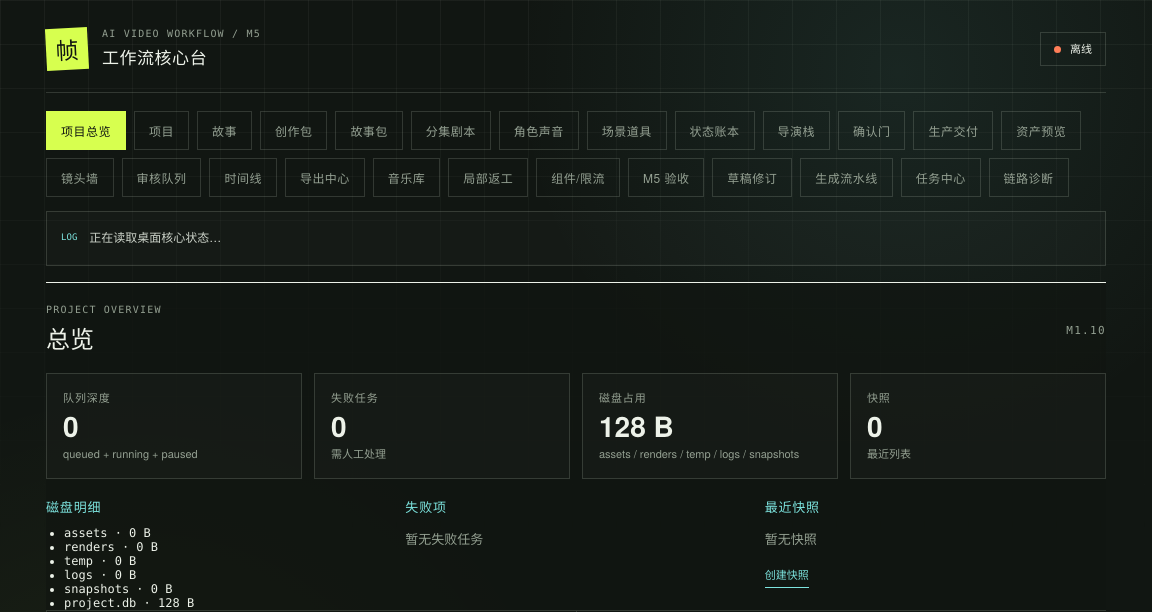
Test case: M1 shell › builds visual bible and director preset three-level resolve
Click the button "导演栈" at (796,130), box [762,111,830,150]
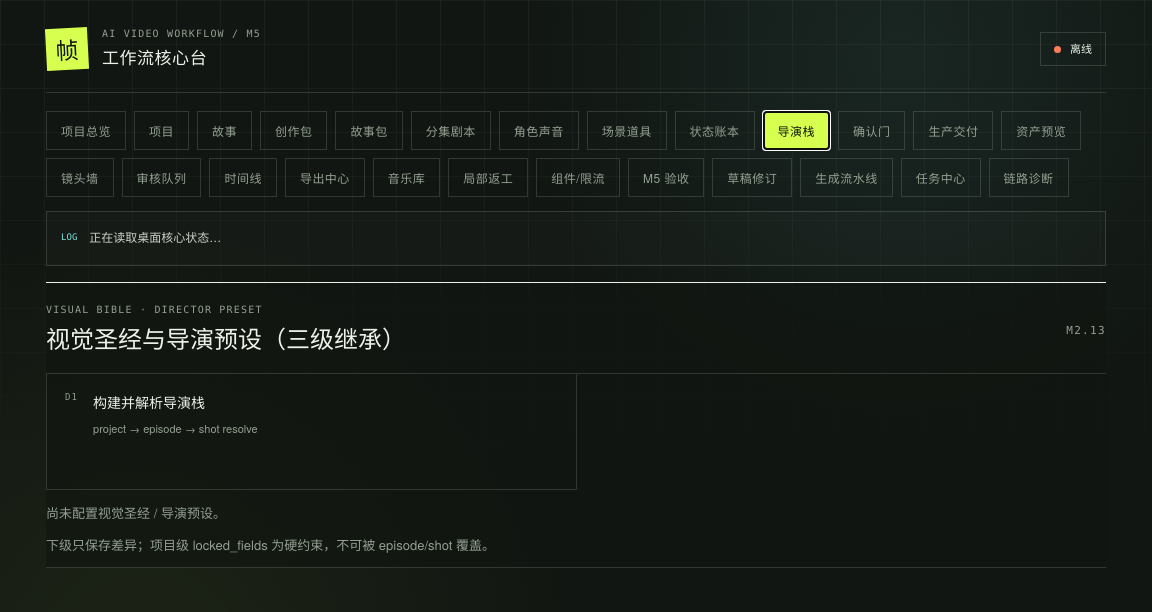
Click the button "构建并解析导演栈" at (149,402), box [47,374,576,490]
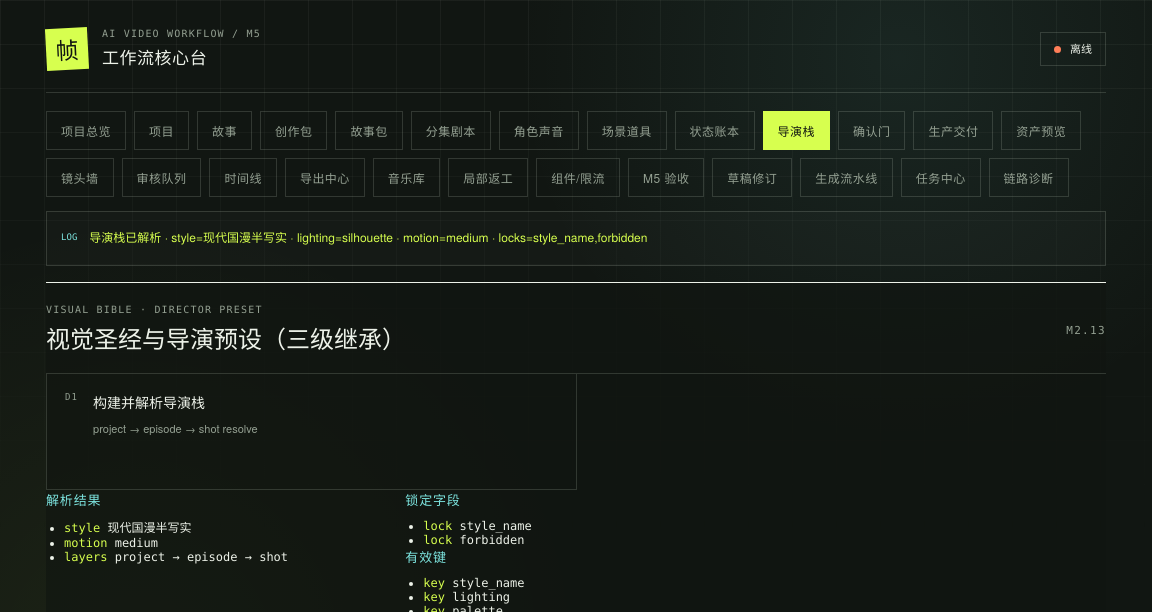
Check: the text "导演栈已解析" is shown, box [89,229,647,246]
Check: the list named "导演解析结果" shows "现代国漫半写实", box [107,521,191,535]
Check: the list named "锁定字段列表" shows "style_name", box [460,519,532,533]
